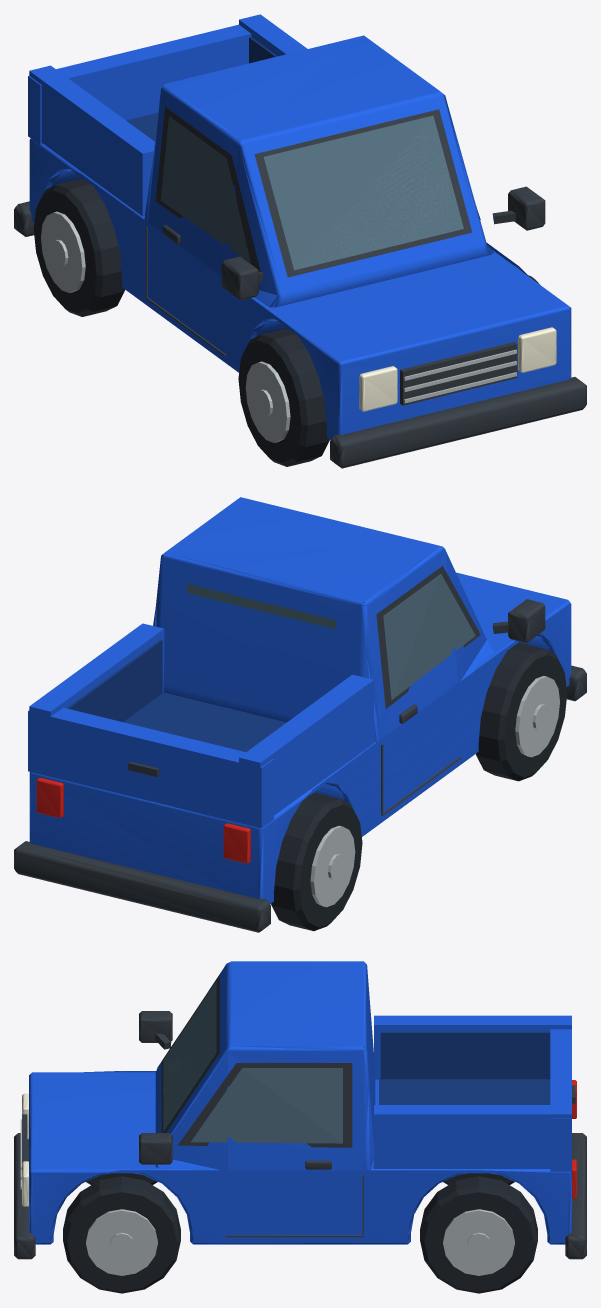
The model's file is Blue_Pickup.fbx.
3 renders of one model, top to bottom at view 1: azimuth 30°, elevation 25°; view 2: azimuth 150°, elevation 25°; view 3: azimuth 270°, elevation 25°, orthographic. The views are drawn at different scales.
Parts seen in each view (by area): view 1: Asset_Blue_Pickup; view 2: Asset_Blue_Pickup; view 3: Asset_Blue_Pickup.
Part boxes in pixels (left/top/right/bottom): Asset_Blue_Pickup: left=14, top=14, right=586, bottom=468; Asset_Blue_Pickup: left=14, top=497, right=586, bottom=932; Asset_Blue_Pickup: left=14, top=961, right=586, bottom=1293.
Size of the model in its own units: 2.57 by 2.15 by 4.75.
